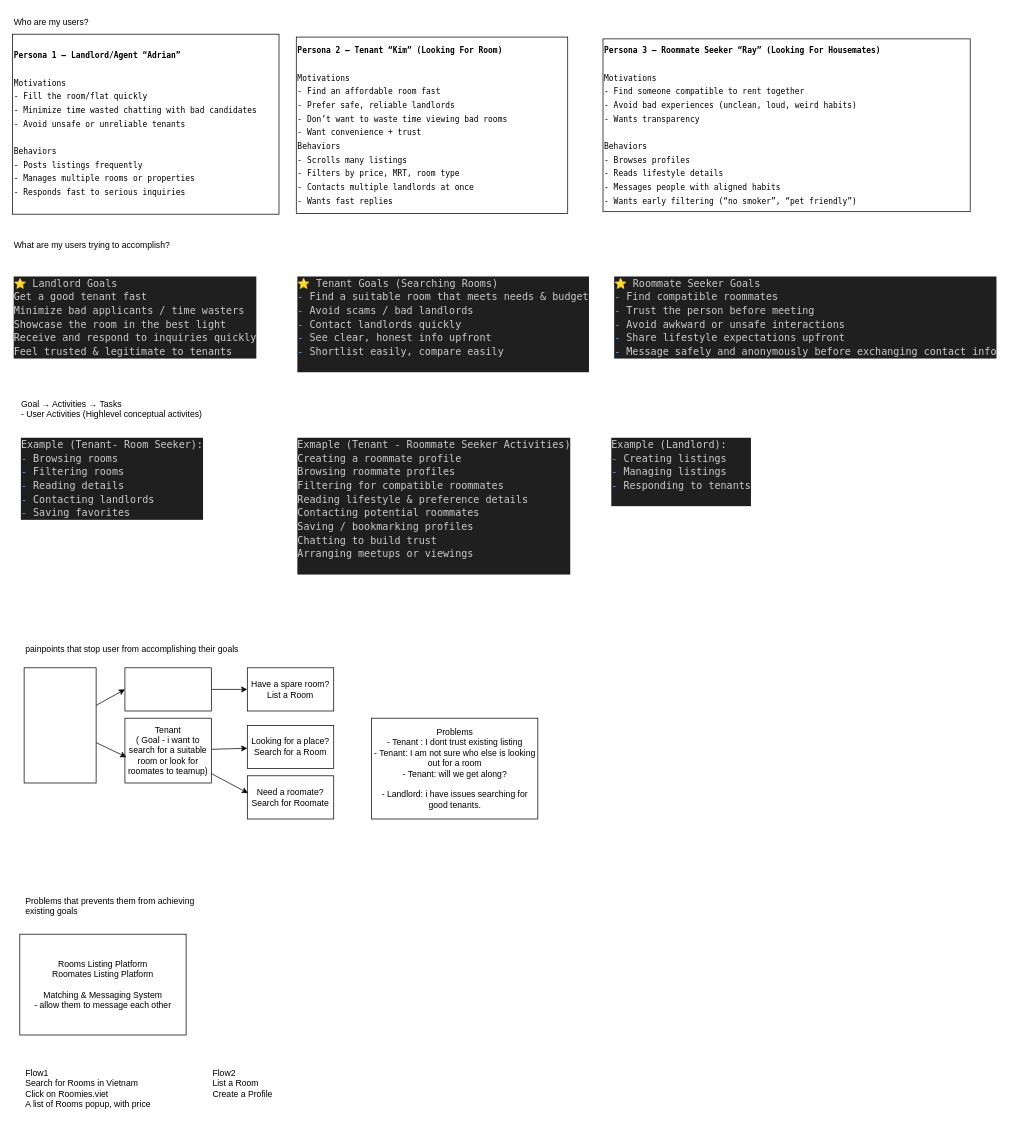
Some shapes in this 1029 by 1133 pixel diagram are drawn without their labels. Each missing label, with the centre of its shape:
Landlord ( Goal - i want to list my spare room and find tenants): the point at 167,689
User: the point at 59,725
